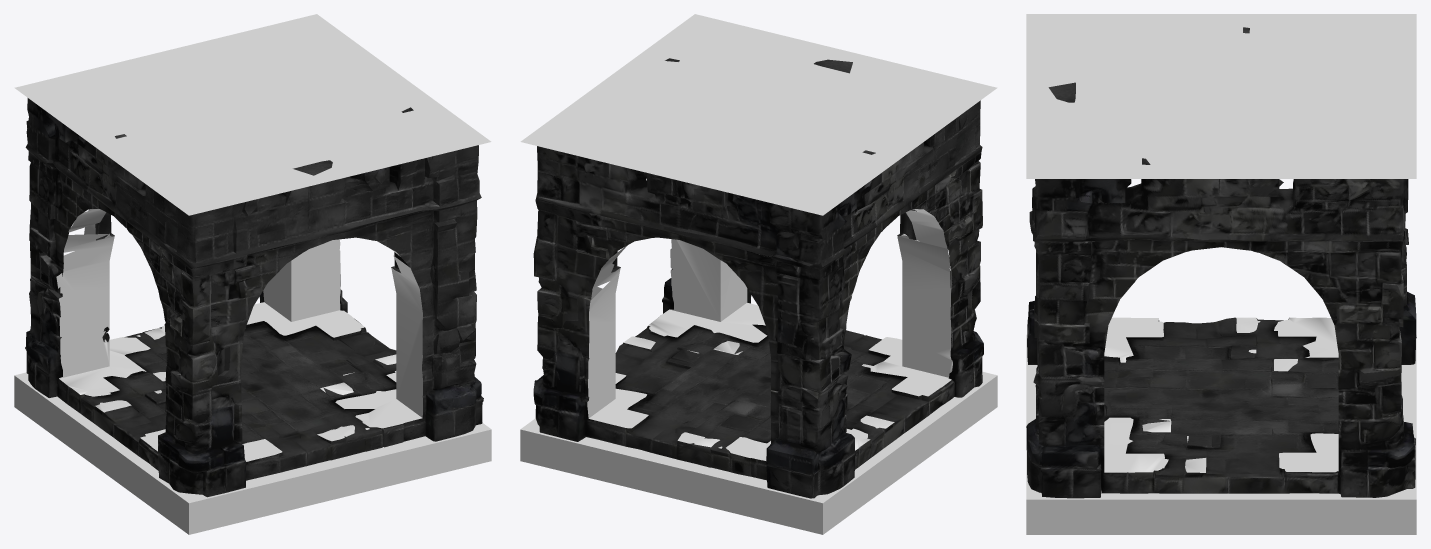
File: module_cross.glb
3 renders of one model, left to right at view 1: azimuth 30°, elevation 25°; view 2: azimuth 150°, elevation 25°; view 3: azimuth 270°, elevation 25°, orthographic. The views are drawn at different scales.
Parts seen in each view (by area): view 1: tripo_node_8c5739aa-f84c-4d8b-8e59-f022d221bb8c; view 2: tripo_node_8c5739aa-f84c-4d8b-8e59-f022d221bb8c; view 3: tripo_node_8c5739aa-f84c-4d8b-8e59-f022d221bb8c.
Part boxes in pixels (box(x1,y1,x2,y2)): tripo_node_8c5739aa-f84c-4d8b-8e59-f022d221bb8c: box(14, 14, 491, 534); tripo_node_8c5739aa-f84c-4d8b-8e59-f022d221bb8c: box(520, 14, 997, 534); tripo_node_8c5739aa-f84c-4d8b-8e59-f022d221bb8c: box(1026, 14, 1416, 534).
Size of the model in its own units: 6 by 6.06 by 6.
Materials: 2 (1 with a texture image).
